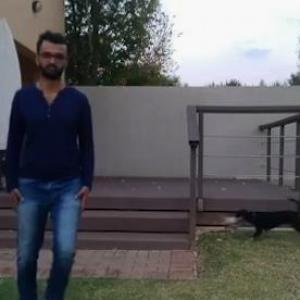follow: (3, 23, 109, 299)
